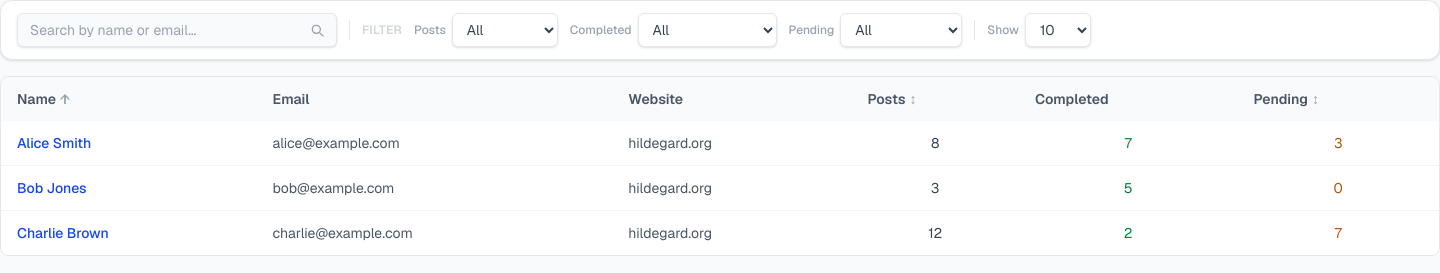
Scenario: UsersClient › filters by has-pending via Pending dropdown
Step 1. Select "Has pending" in the dropdown labelled "Pending" → (901, 30), box [840,13,962,47]
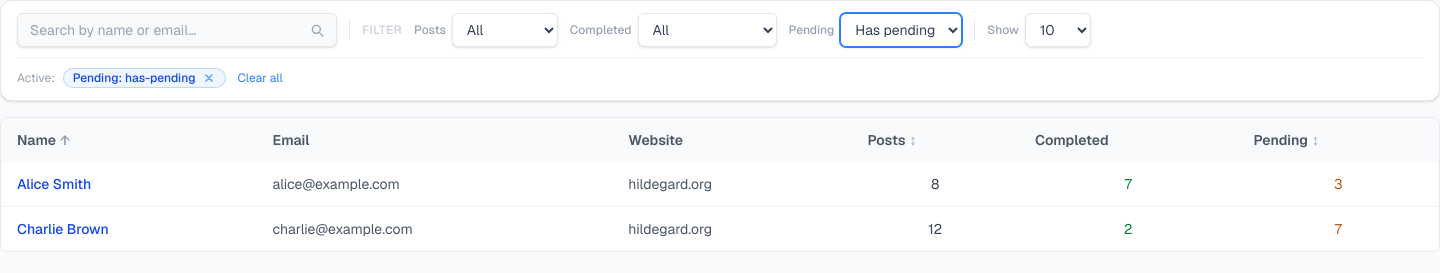
Expected: the link "Alice Smith" is shown, [17,175,91,193]
Expected: the link "Bob Jones" is gone
